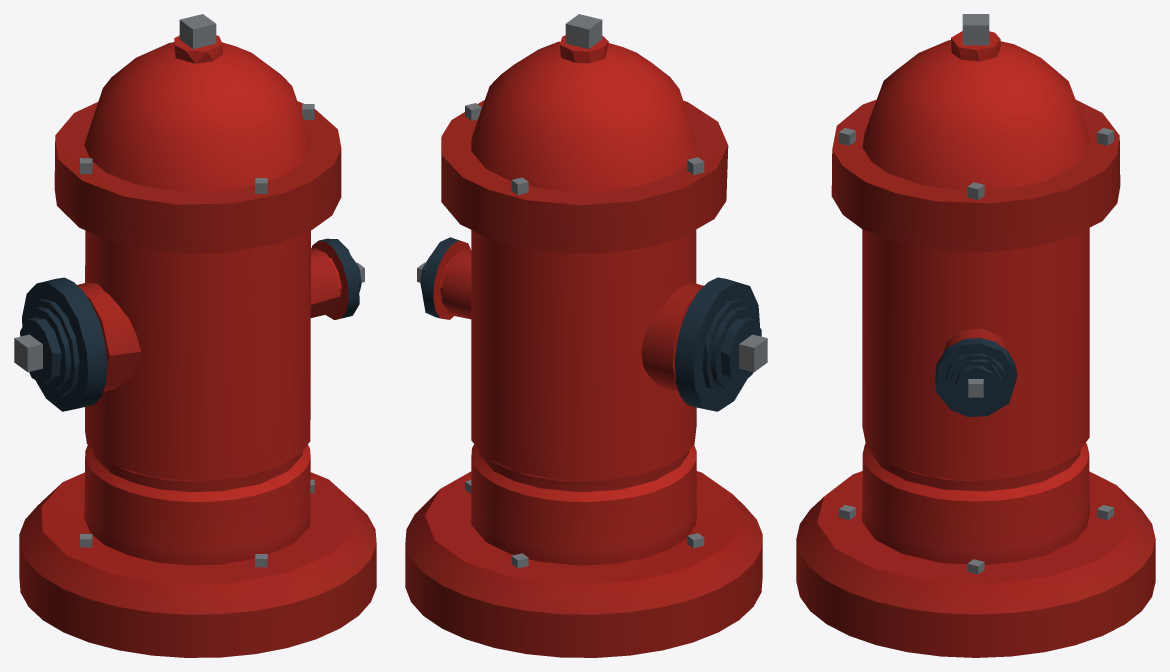
Rendered from Hidrante.glb.
3 views of the same model, side by side, from view 1: azimuth 30°, elevation 25°; view 2: azimuth 150°, elevation 25°; view 3: azimuth 270°, elevation 25° (orthographic).
Visible parts, largest first — view 1: Hidrante; view 2: Hidrante; view 3: Hidrante.
Part boxes in pixels (x1,y1,x2,y2): Hidrante: (14, 14, 376, 657); Hidrante: (405, 14, 767, 657); Hidrante: (796, 14, 1155, 657).
Bounding box in the file's own units: 2.19 × 3.46 × 2.
Materials: 1 (1 with a texture image).
